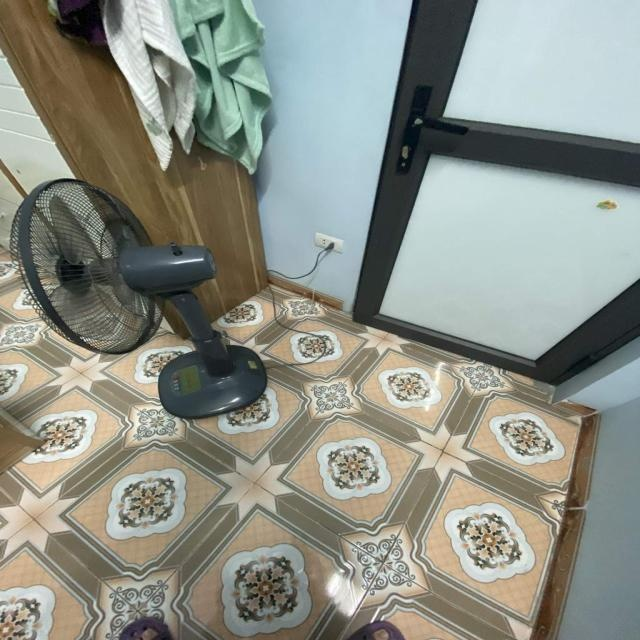outlet: (314, 232, 344, 254)
